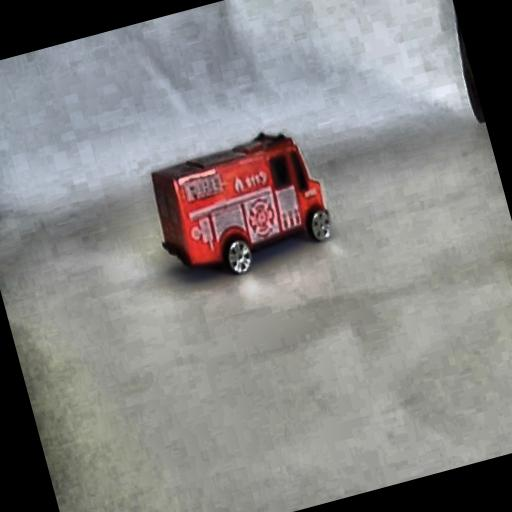fire_truck: (148, 130, 334, 282)
